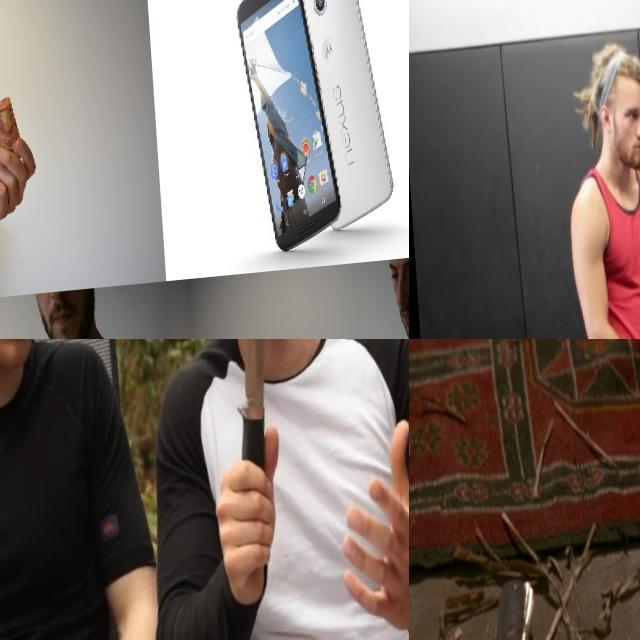-: (192, 339, 283, 568)
gun-knife-thesis - v11 Yolov5 augmented: (409, 560, 547, 640)
